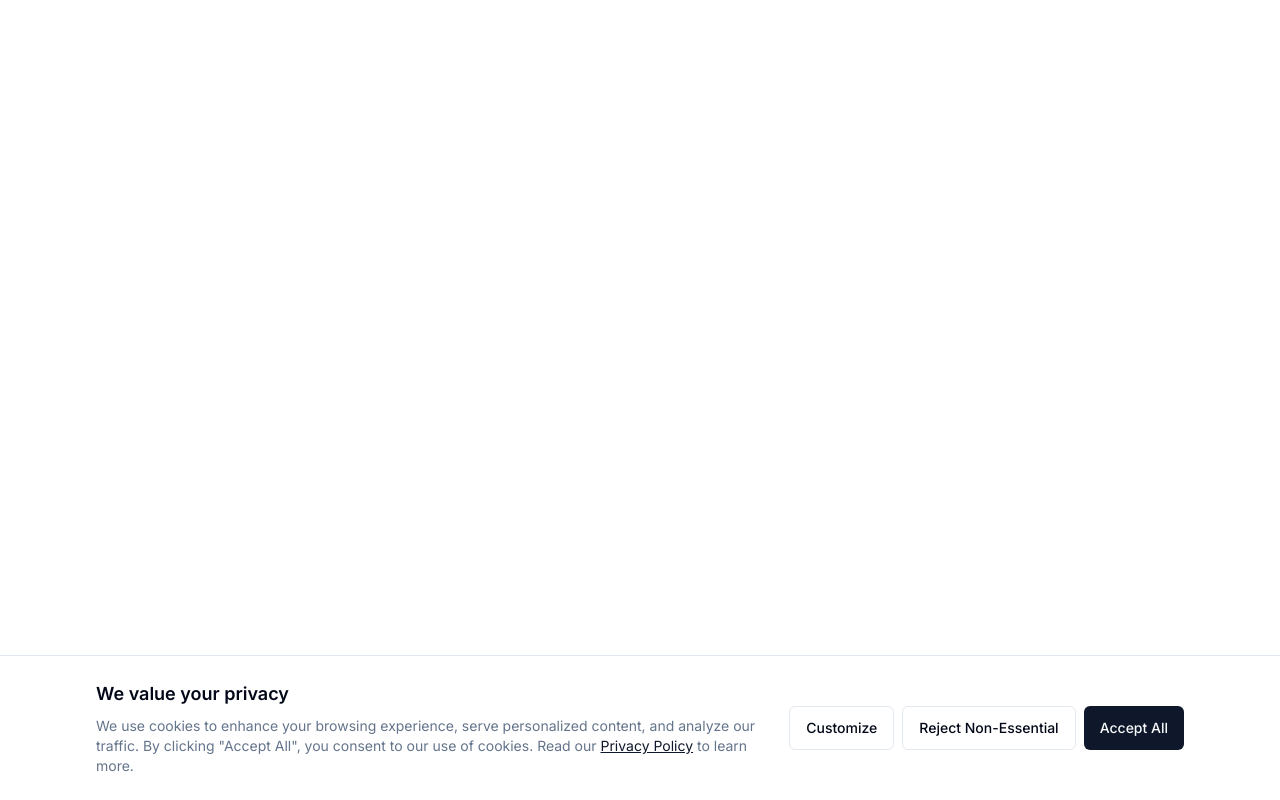
Test: CookieConsentBanner › when consent is needed › opens customize dialog when Customize button is clicked
This screenshot has width=1280, height=800.
Click the button with test id "cookie-customize-btn" at {"x": 842, "y": 728}, box [789,706,894,750]
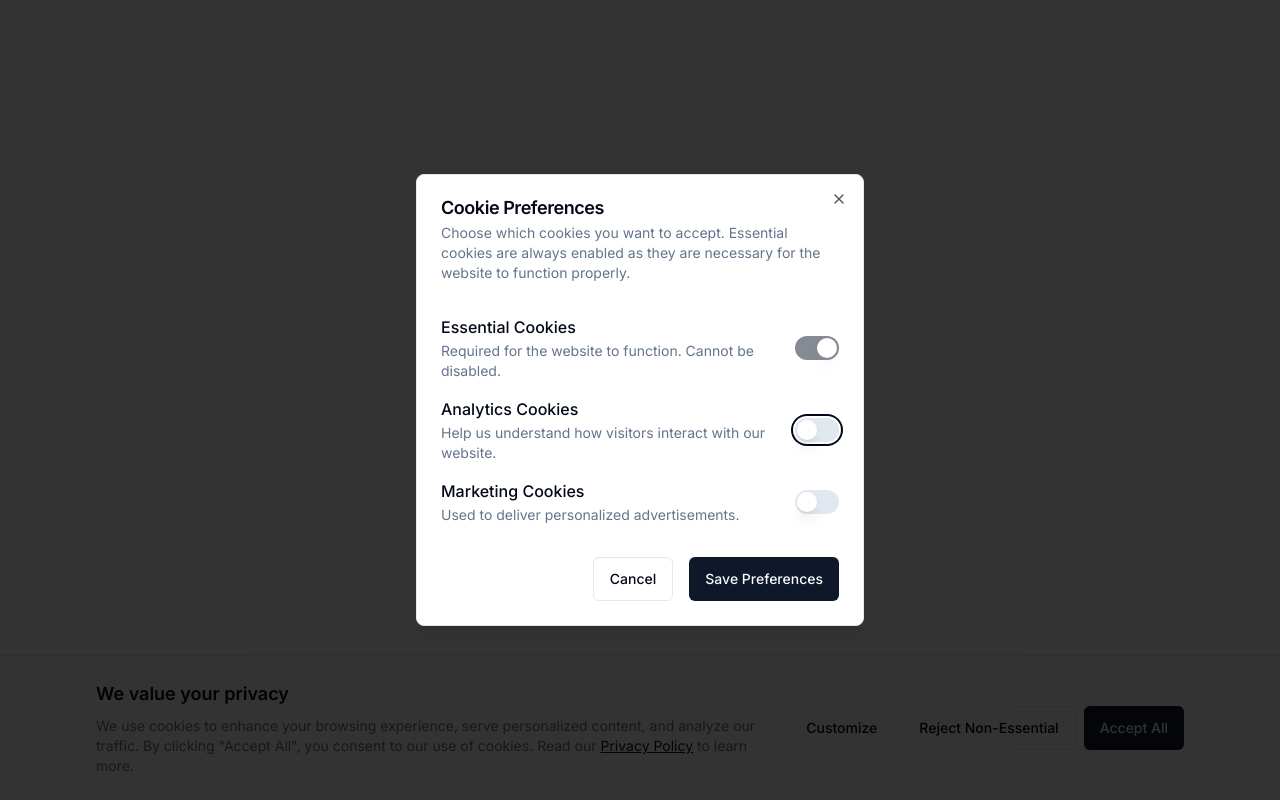
Expected: the heading "Cookie Preferences" is shown, [441,197,604,218]
Expected: the text "Essential Cookies" is shown, [441,317,576,337]
Expected: the text "Analytics Cookies" is shown, [441,399,578,419]
